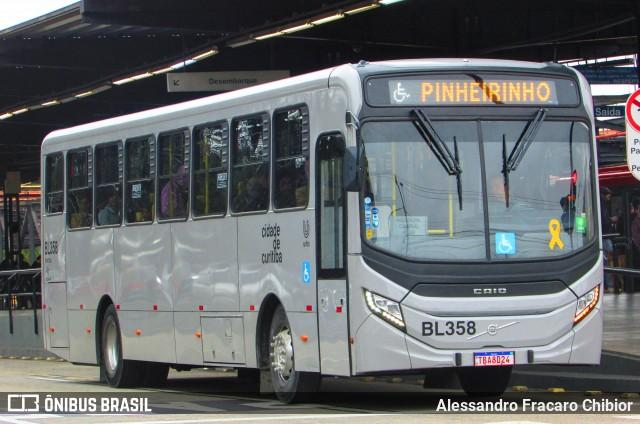PINHEIRINHO: (415, 76, 561, 106)
